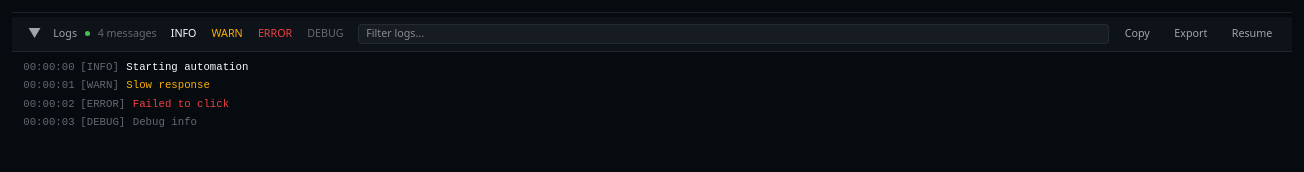
Test case: LogViewer › pauses auto-scroll when user scrolls up and can resume
Click the button with test id "resume-scroll-button" at (1252, 34), box top-left (1223, 22), bottom-right (1281, 45)
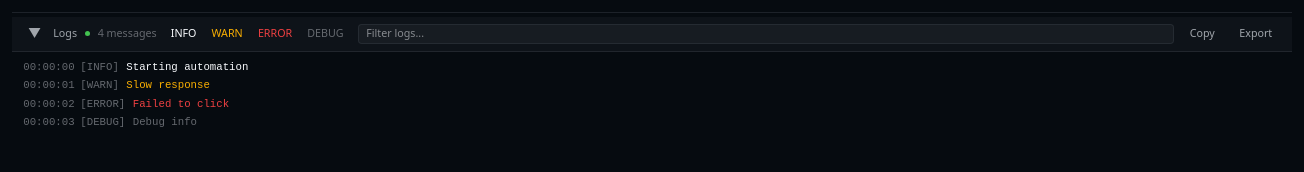
expect the button with test id "resume-scroll-button" is gone: met
